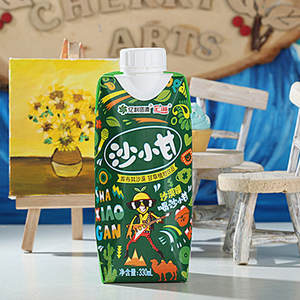carton: (89, 42, 196, 288)
